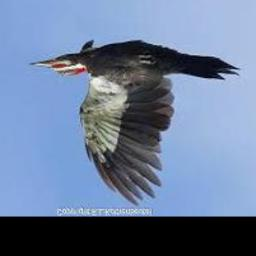Woodpecker: (28, 41, 241, 206)
